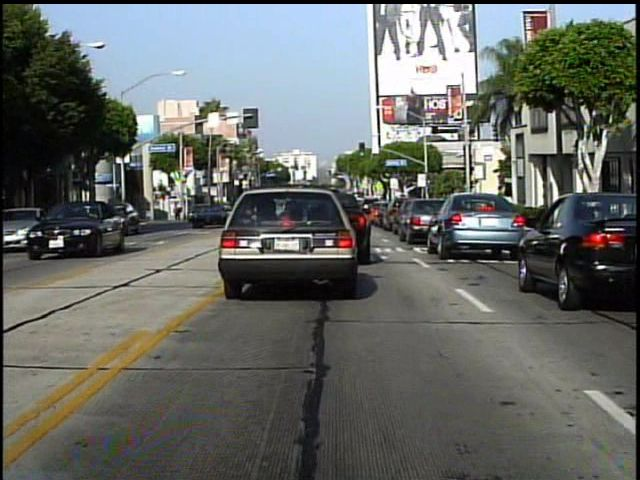car: (219, 187, 362, 292), (518, 179, 634, 299), (28, 197, 128, 262), (434, 189, 518, 259), (401, 190, 433, 245)
